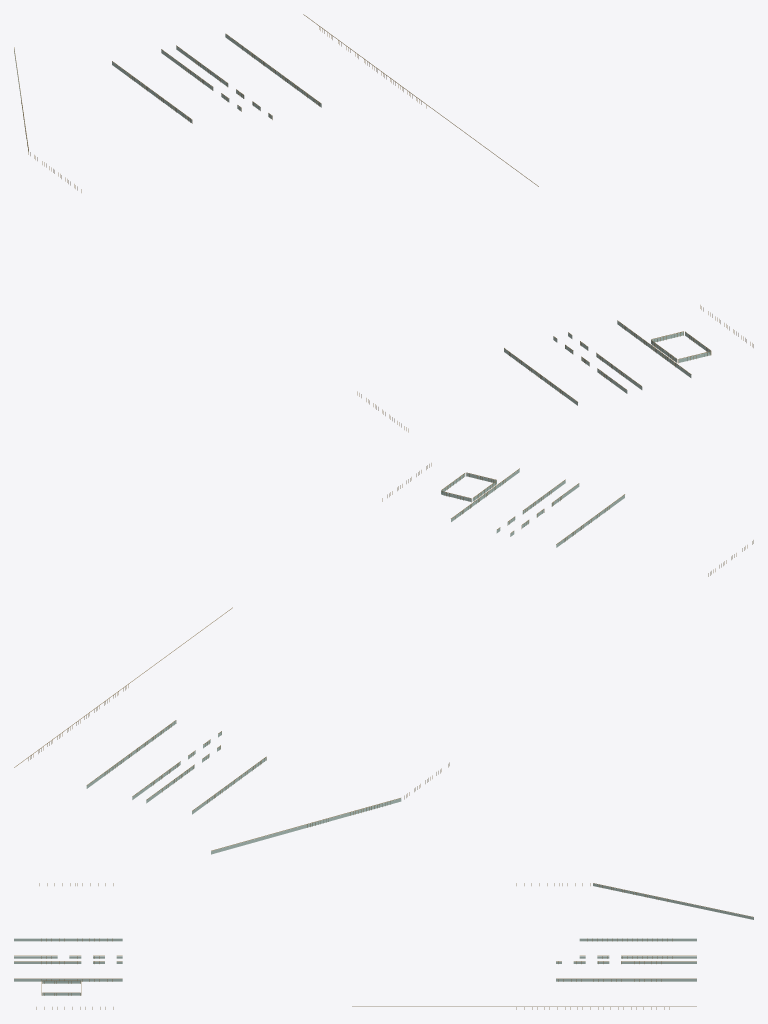
The model's file is TidalD13FrontagePatch.glb.
The picture shows the model from 3 angles, top to bottom: view 1: azimuth 30°, elevation 25°; view 2: azimuth 150°, elevation 25°; view 3: azimuth 270°, elevation 25°; orthographic projection. The views are drawn at different scales.
Parts seen in each view (by area): view 1: TG_Batch_157, TG_Batch_148, TG_Batch_154, TG_Batch_146; view 2: TG_Batch_148, TG_Batch_157, TG_Batch_146, TG_Batch_154; view 3: TG_Batch_148, TG_Batch_157, TG_Batch_146, TG_Batch_154, TG_Batch_147.
Boxes of the visible parts, x1=… form: TG_Batch_157: x1=504, y1=321, x2=710, y2=405; TG_Batch_148: x1=14, y1=34, x2=321, y2=151; TG_Batch_154: x1=357, y1=305, x2=753, y2=432; TG_Batch_146: x1=14, y1=26, x2=372, y2=150; TG_Batch_148: x1=86, y1=720, x2=401, y2=854; TG_Batch_157: x1=441, y1=469, x2=624, y2=547; TG_Batch_146: x1=28, y1=720, x2=400, y2=850; TG_Batch_154: x1=382, y1=463, x2=753, y2=576; TG_Batch_148: x1=556, y1=883, x2=753, y2=981; TG_Batch_157: x1=14, y1=938, x2=122, y2=995; TG_Batch_146: x1=556, y1=883, x2=753, y2=1009; TG_Batch_154: x1=14, y1=883, x2=122, y2=1009; TG_Batch_147: x1=352, y1=883, x2=696, y2=1009.
Size of the model in its own units: 91.72 by 1.14 by 232.
Materials: 2 (1 with a texture image).
